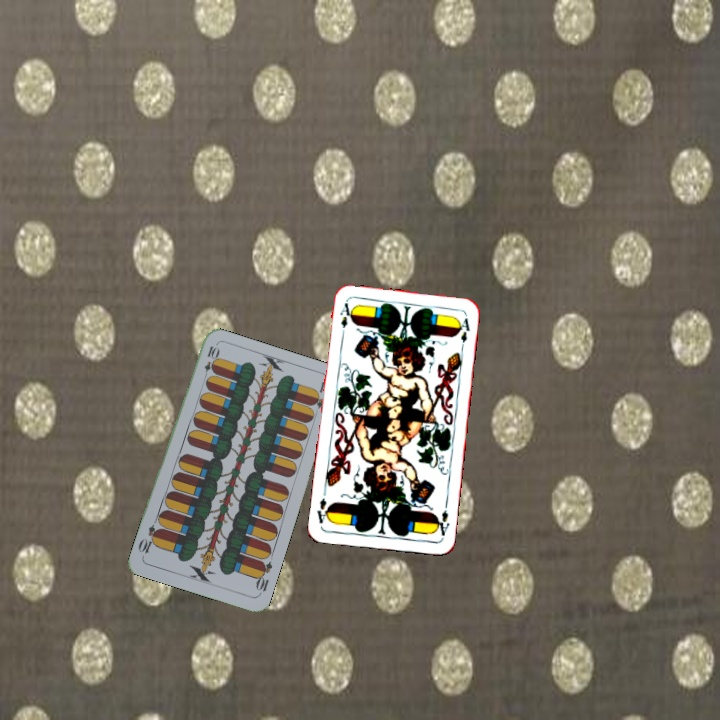E10: (252, 557, 275, 598), (200, 342, 220, 382)
EA: (336, 299, 354, 339), (432, 506, 452, 538)
